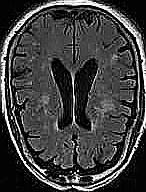Normal_Brain: (1, 1, 146, 192)
